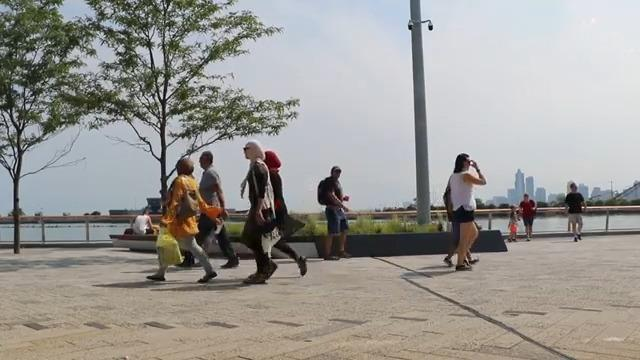no-helmet: (243, 140, 266, 161), (453, 153, 470, 173), (330, 165, 341, 179)
